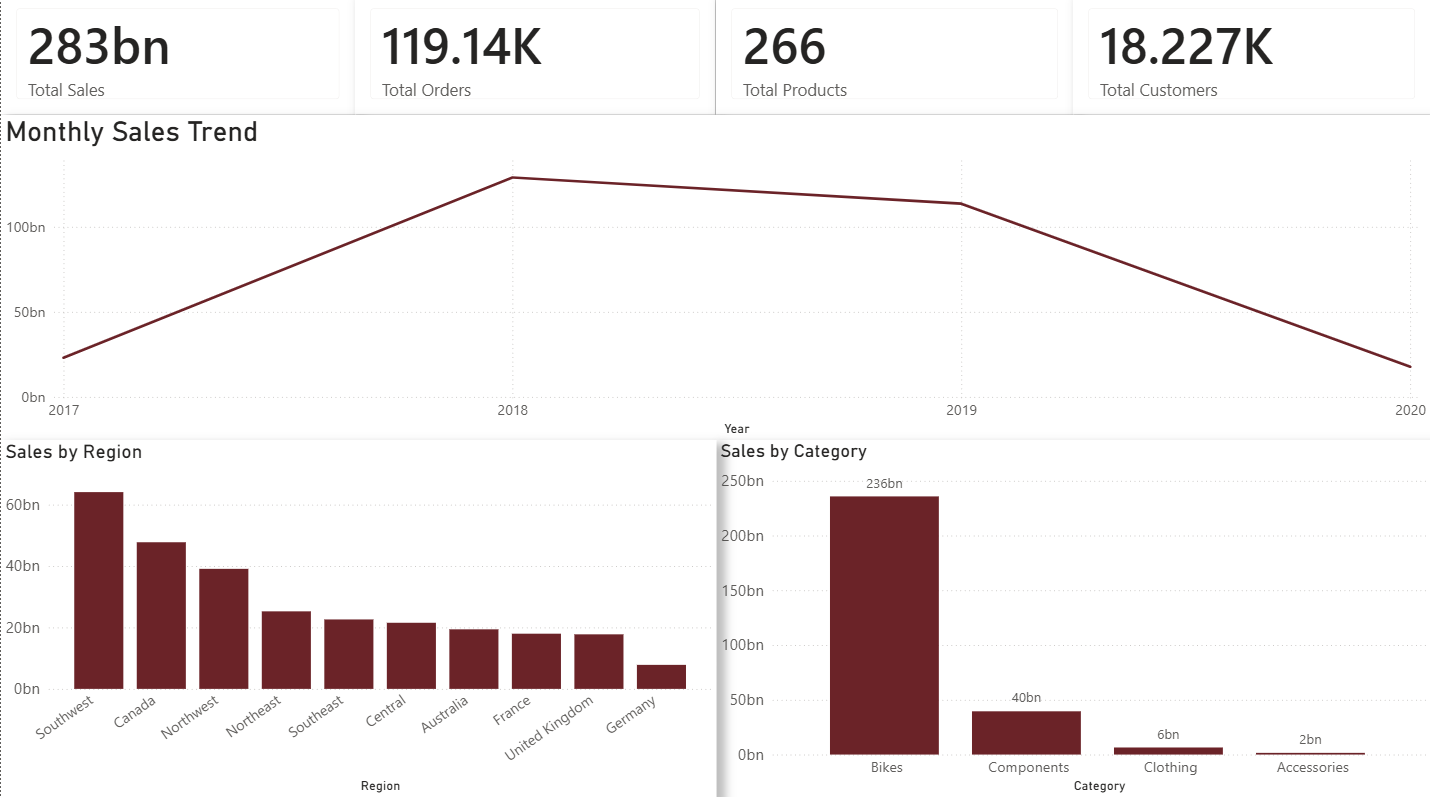

The page's visual inventory and layout, read from the dashboard file:
{"tool":"powerbi","page":{"name":"Executive Dashboard","canvas":[1600,900],"ordinal":0},"visuals":[{"type":"cardVisual","fields":{"Data":["Sum(clean_adventureworks.Sales Amount)"]},"box":[0,0,396.8,136.3],"z":0},{"type":"cardVisual","fields":{"Data":["CountNonNull(clean_adventureworks.SalesOrderLineKey)"]},"box":[396.8,0,403.4,136.3],"z":1000},{"type":"cardVisual","fields":{"Data":["Count(clean_adventureworks.Product)"]},"box":[800.2,0,400.1,136.3],"z":2000},{"type":"cardVisual","fields":{"Data":["Count(clean_adventureworks.Customer ID)"]},"box":[1200.4,0,400.1,136.3],"z":3000},{"type":"lineChart","title":"Monthly Sales Trend","fields":{"Category":["clean_adventureworks.OrderDateKey.Variation.Date Hierarchy.Year","clean_adventureworks.OrderDateKey.Variation.Date Hierarchy.Month"],"Y":["Sum(clean_adventureworks.Sales Amount)"]},"box":[0,136.3,1600.5,363.5],"z":4000},{"type":"columnChart","title":"Sales by Category","fields":{"Category":["clean_adventureworks.Category"],"Y":["Sum(clean_adventureworks.Sales Amount)"]},"box":[800.2,499.9,800.2,400.1],"z":5000},{"type":"columnChart","title":"Sales by Region","fields":{"Category":["clean_adventureworks.Region"],"Y":["Sum(clean_adventureworks.Sales Amount)"]},"box":[0,499.9,800.8,399.6],"z":6000}]}

Visuals, with their boxes in screenshot pixels (x1, y1, x2, y2), scaled from the page's 1600x900 canvas onto the 1430x797 screenshot:
cardVisual - Sum(clean_adventureworks.Sales Amount): bbox(0, 0, 355, 121)
cardVisual - CountNonNull(clean_adventureworks.SalesOrderLineKey): bbox(355, 0, 715, 121)
cardVisual - Count(clean_adventureworks.Product): bbox(715, 0, 1073, 121)
cardVisual - Count(clean_adventureworks.Customer ID): bbox(1073, 0, 1429, 121)
"Monthly Sales Trend" lineChart: bbox(0, 121, 1429, 443)
"Sales by Category" columnChart: bbox(715, 443, 1429, 796)
"Sales by Region" columnChart: bbox(0, 443, 716, 796)
